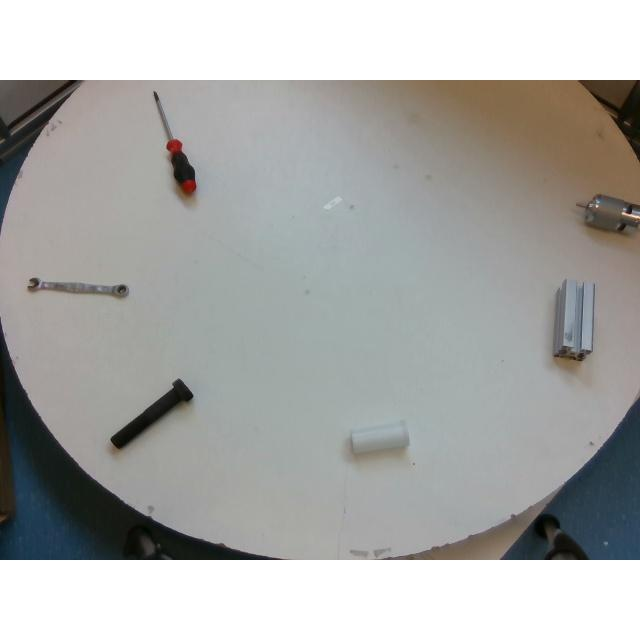M20_100: (110, 379, 192, 448)
Motor2: (577, 194, 639, 232)
S40_40_G: (553, 280, 595, 360)
Spacer: (350, 421, 410, 453)
Wrench: (26, 277, 128, 297)
